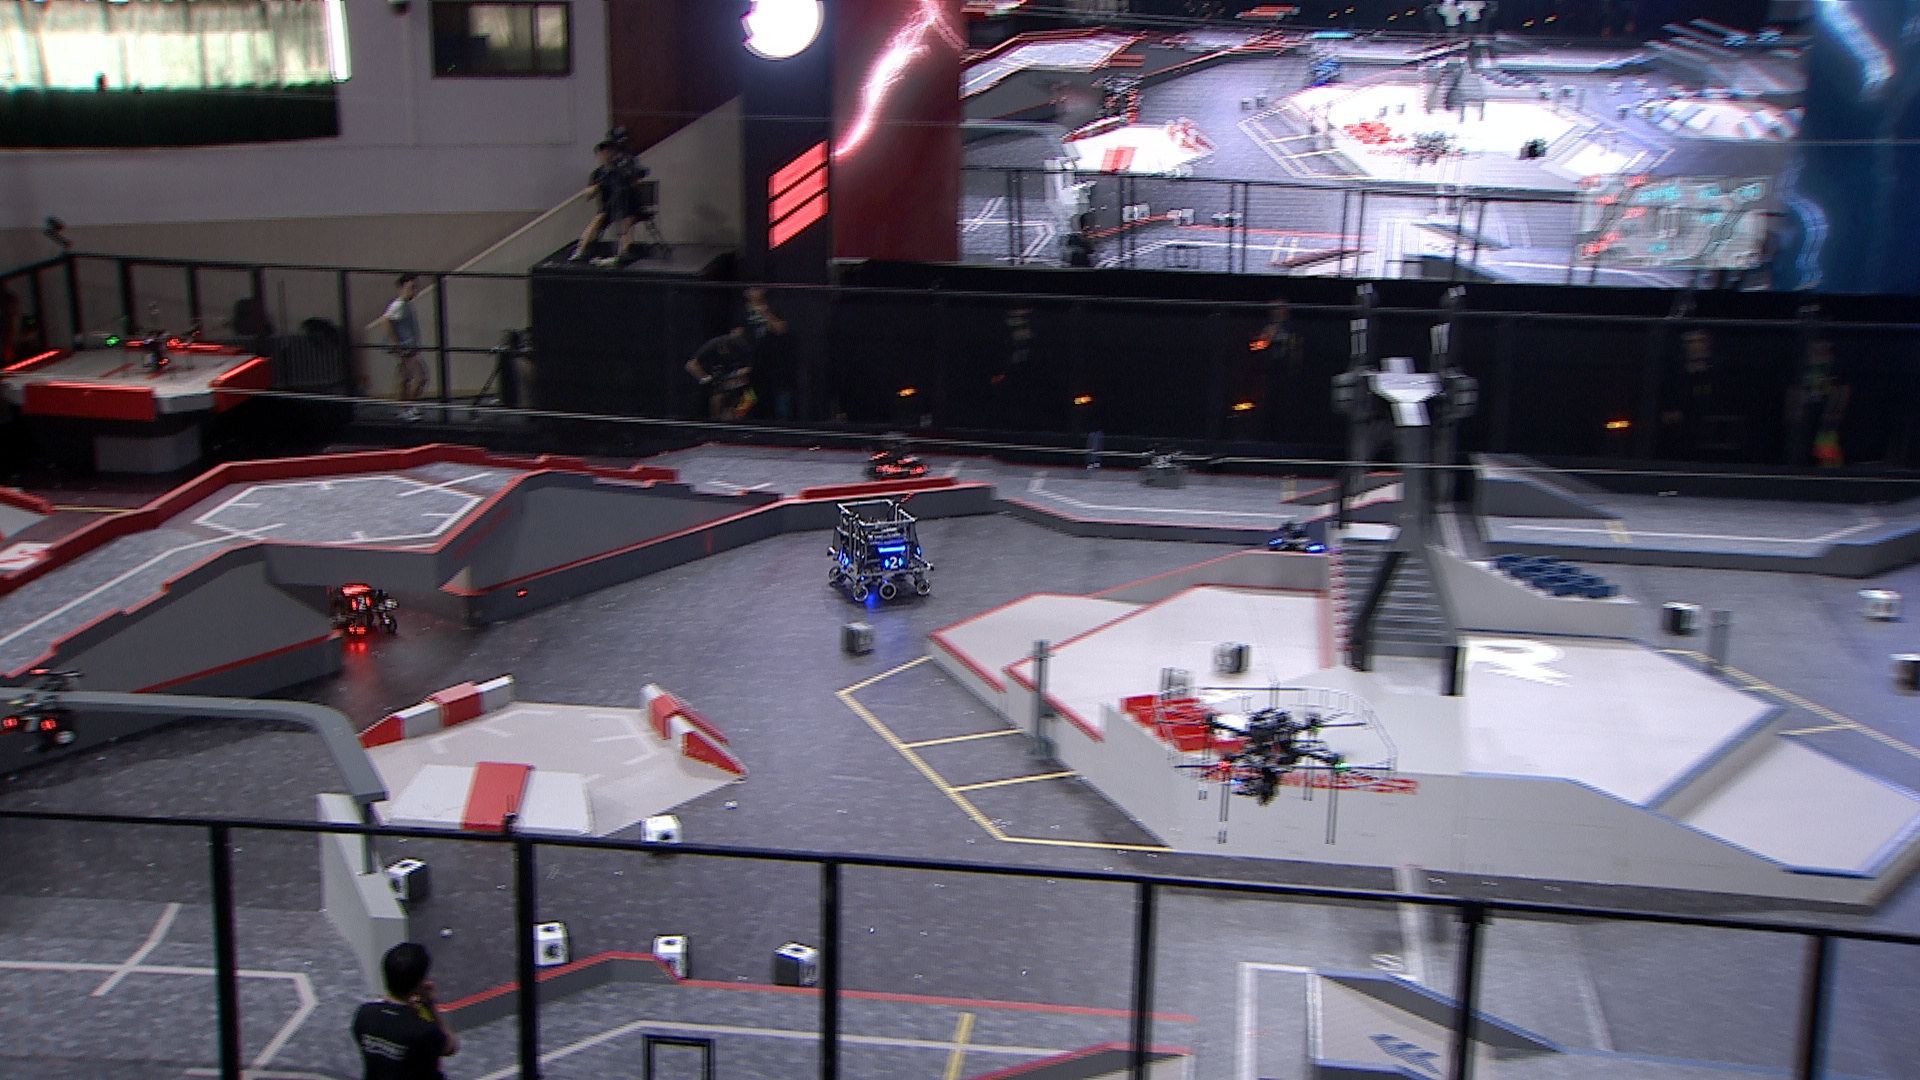armor: (1, 711, 55, 735), (349, 593, 372, 611), (874, 460, 897, 473), (880, 555, 902, 568), (909, 462, 924, 476), (897, 454, 920, 463), (836, 551, 851, 564)
car: (822, 495, 935, 603), (306, 547, 400, 644), (1259, 520, 1338, 589), (865, 433, 935, 484)
ignore: (1096, 73, 1143, 127), (1302, 41, 1346, 87)
